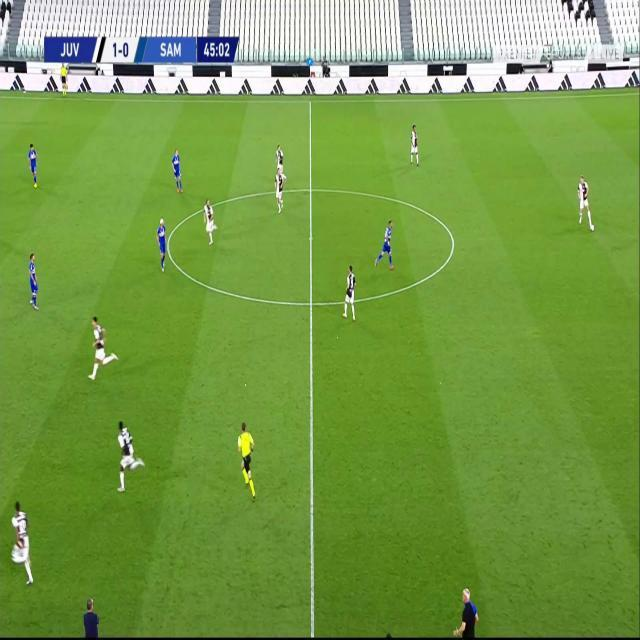ball: (589, 223, 595, 232)
player: (7, 499, 36, 589), (114, 419, 146, 495), (87, 315, 119, 385), (373, 218, 395, 272), (341, 261, 359, 322), (577, 174, 595, 231), (27, 250, 41, 310), (203, 197, 218, 248), (156, 216, 169, 272), (27, 141, 40, 187), (171, 147, 184, 193), (274, 167, 285, 213), (410, 123, 420, 167), (276, 145, 287, 172)
referee: (236, 418, 258, 501), (60, 59, 69, 97)
